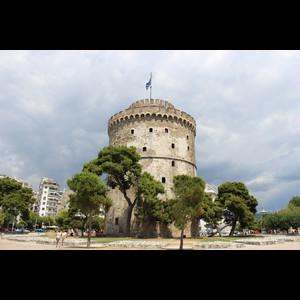White Tower: (98, 69, 201, 239)
